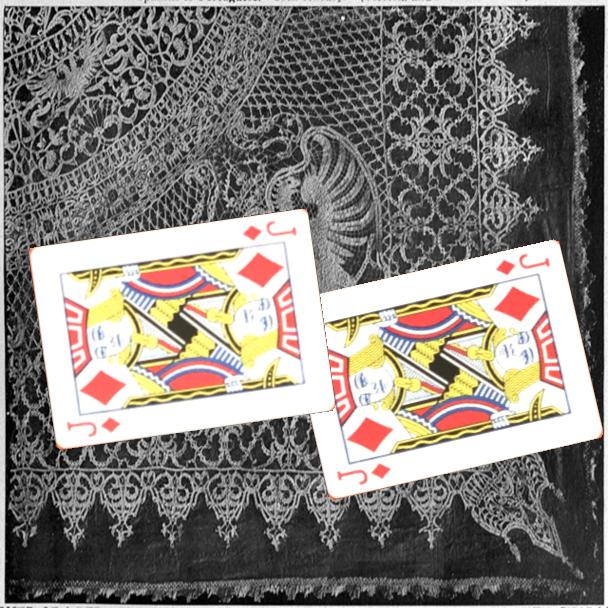d11: (333, 460, 394, 489), (492, 250, 553, 278), (239, 217, 299, 244), (63, 414, 123, 440)
